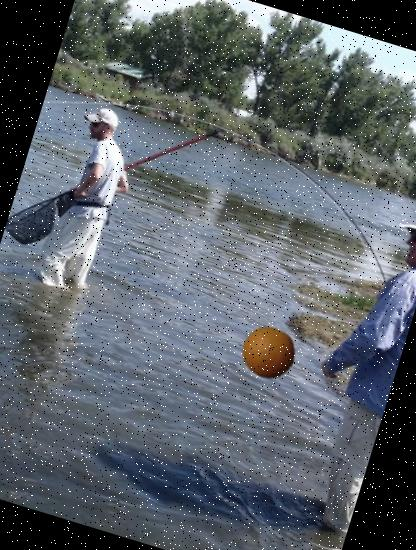Orange: (236, 320, 302, 386)
